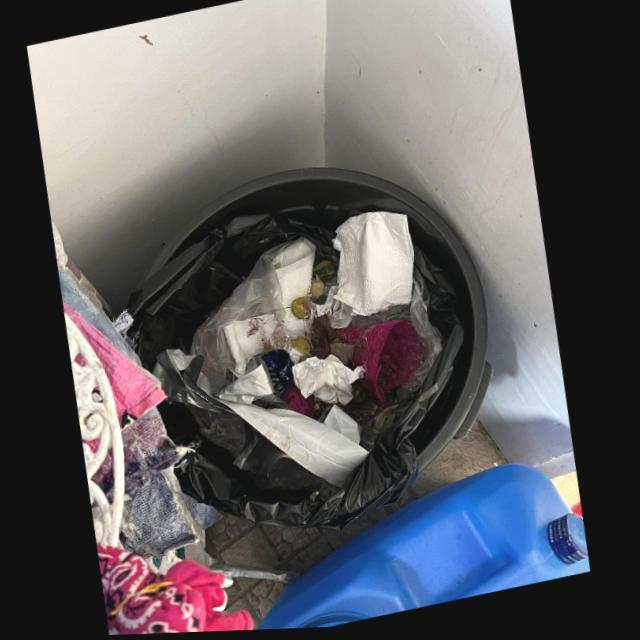biowaste: (315, 259, 336, 283), (294, 300, 312, 320), (294, 340, 314, 356)
paper: (336, 214, 415, 319), (273, 239, 318, 340), (295, 358, 367, 408)
